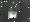person: (9, 9, 18, 18)
